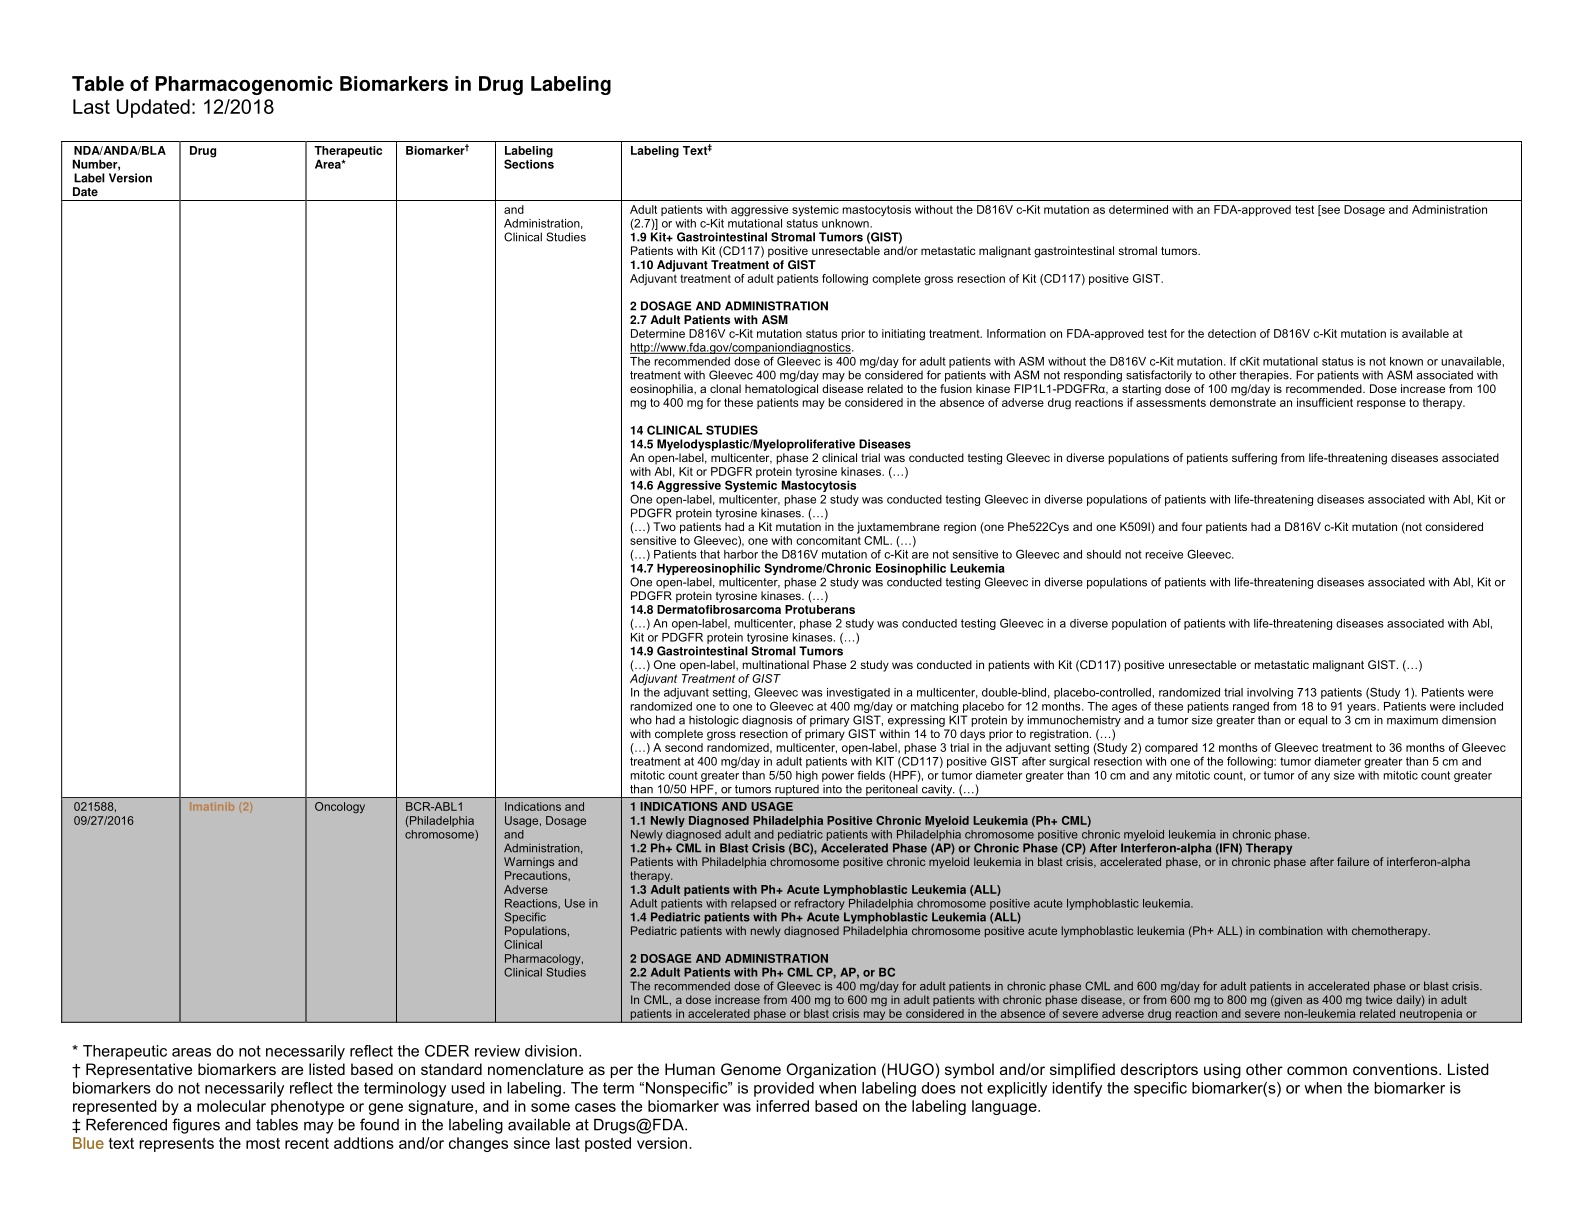full_lined: (60, 141, 1522, 1023)
